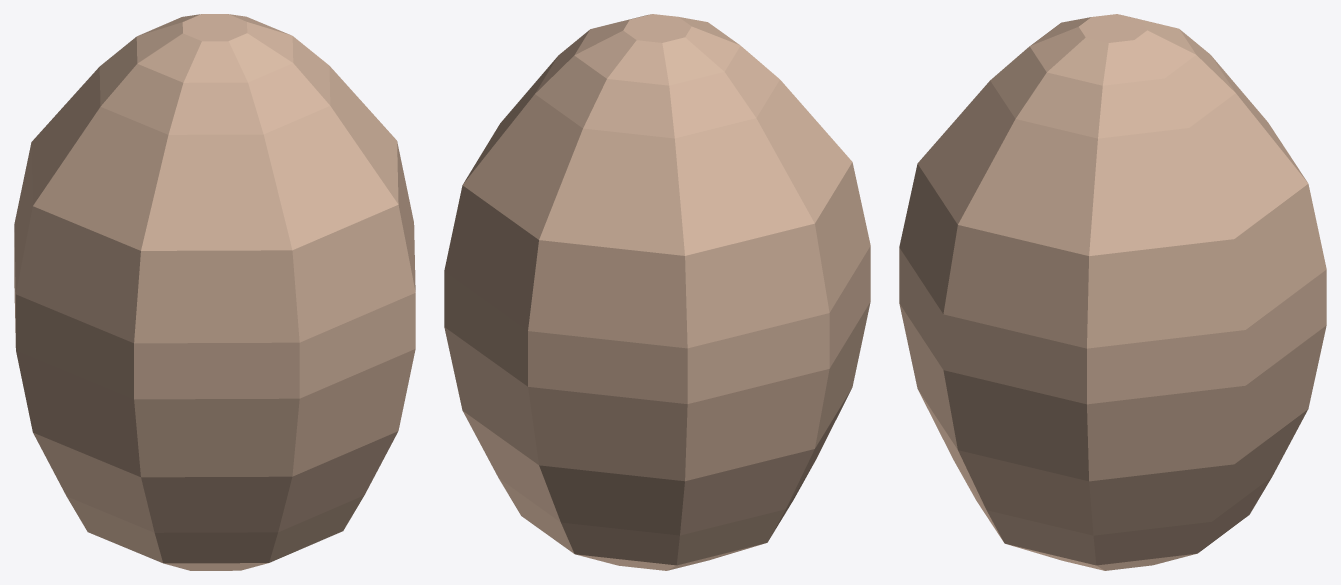
The model's file is egg.fbx.
3 views of the same model, side by side, from view 1: azimuth 30°, elevation 25°; view 2: azimuth 150°, elevation 25°; view 3: azimuth 270°, elevation 25° (orthographic).
Visible parts, largest first — view 1: Oeuf; view 2: Oeuf; view 3: Oeuf.
Boxes of the visible parts, <box> form: Oeuf: <box>14,14,415,570</box>; Oeuf: <box>444,14,870,570</box>; Oeuf: <box>899,14,1326,570</box>.
Size of the model in its own units: 4.96 by 6.6 by 4.96.
